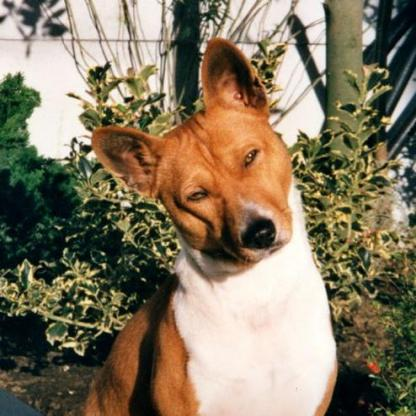basenji: (76, 36, 338, 413)
